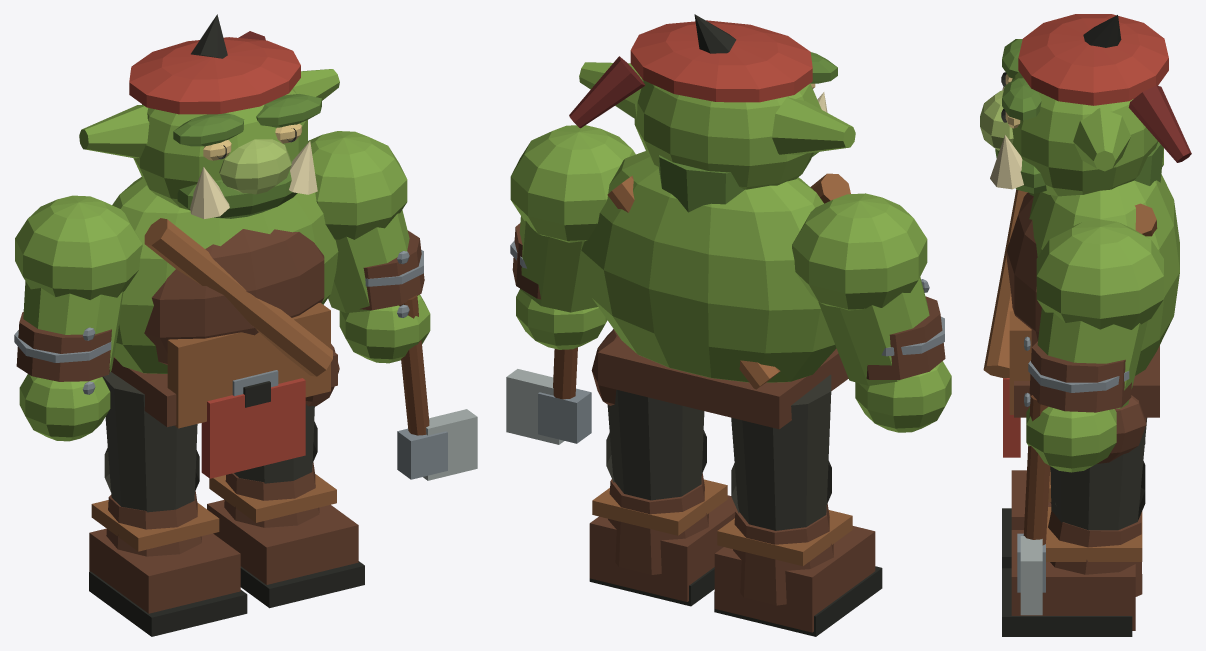
Rendered from orc-worker.obj.
The picture shows the model from 3 angles, left to right: view 1: azimuth 30°, elevation 25°; view 2: azimuth 150°, elevation 25°; view 3: azimuth 270°, elevation 25°; orthographic projection. The views are drawn at different scales.
Parts seen in each view (by area): view 1: torso, head, left_leg, right_arm, left_arm, right_leg; view 2: torso, head, left_leg, left_arm, right_arm, right_leg; view 3: right_arm, head, torso, right_leg, left_leg.
Boxes of the visible parts, <box> form: torso: <box>111,177,339,478</box>; head: <box>79,14,339,218</box>; left_leg: <box>89,372,247,636</box>; right_arm: <box>308,131,477,480</box>; left_arm: <box>14,195,142,441</box>; right_leg: <box>207,404,364,608</box>; torso: <box>581,151,850,429</box>; head: <box>569,14,855,212</box>; left_leg: <box>714,374,882,636</box>; left_arm: <box>792,193,951,432</box>; right_arm: <box>506,125,635,444</box>; right_leg: <box>589,389,736,606</box>; right_arm: <box>1017,219,1163,615</box>; head: <box>980,14,1191,196</box>; torso: <box>983,174,1179,463</box>; right_leg: <box>1002,417,1147,636</box>; left_leg: <box>1002,441,1145,568</box>.
Bounding box in the file's own units: 2.32 × 2.87 × 0.957.
